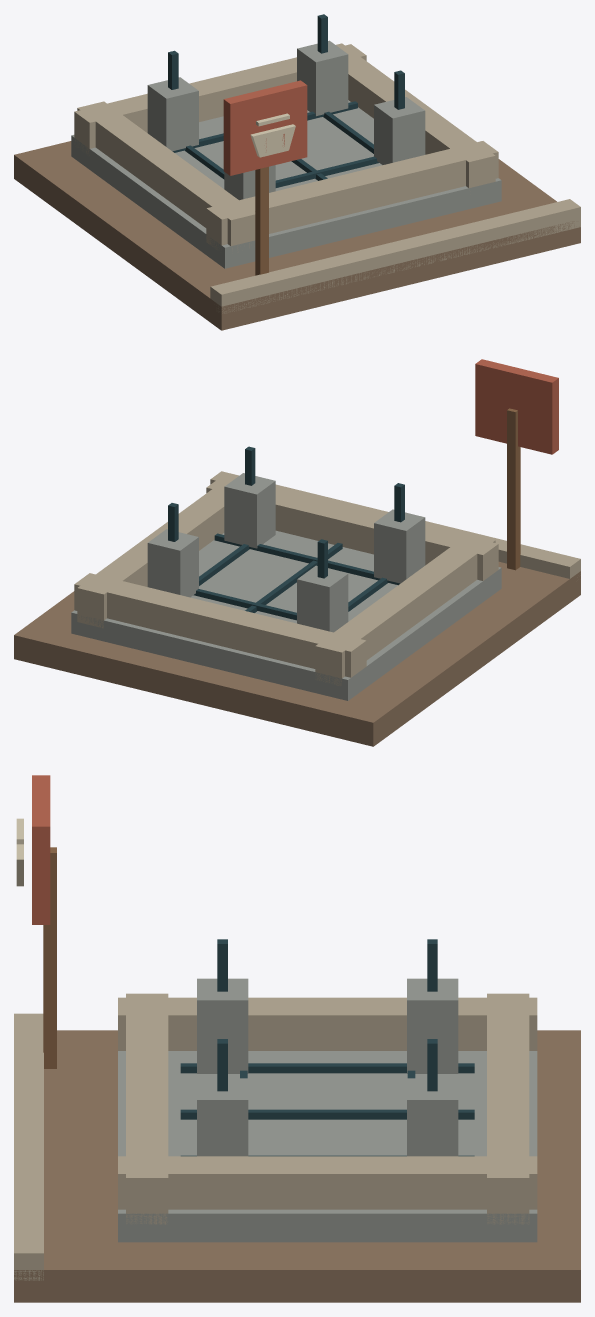
File: grocery-sunrise-foundation.glb
3 views of the same model, one above another, from view 1: azimuth 30°, elevation 25°; view 2: azimuth 150°, elevation 25°; view 3: azimuth 270°, elevation 25° (orthographic). The views are drawn at different scales.
Parts seen in each view (by area): view 1: grocery; view 2: grocery; view 3: grocery.
Boxes of the visible parts, <box> form: grocery: <box>14,14,580,330</box>; grocery: <box>14,359,580,746</box>; grocery: <box>14,775,580,1302</box>.
Bounding box in the file's own units: 1.88 × 1.09 × 1.88.
